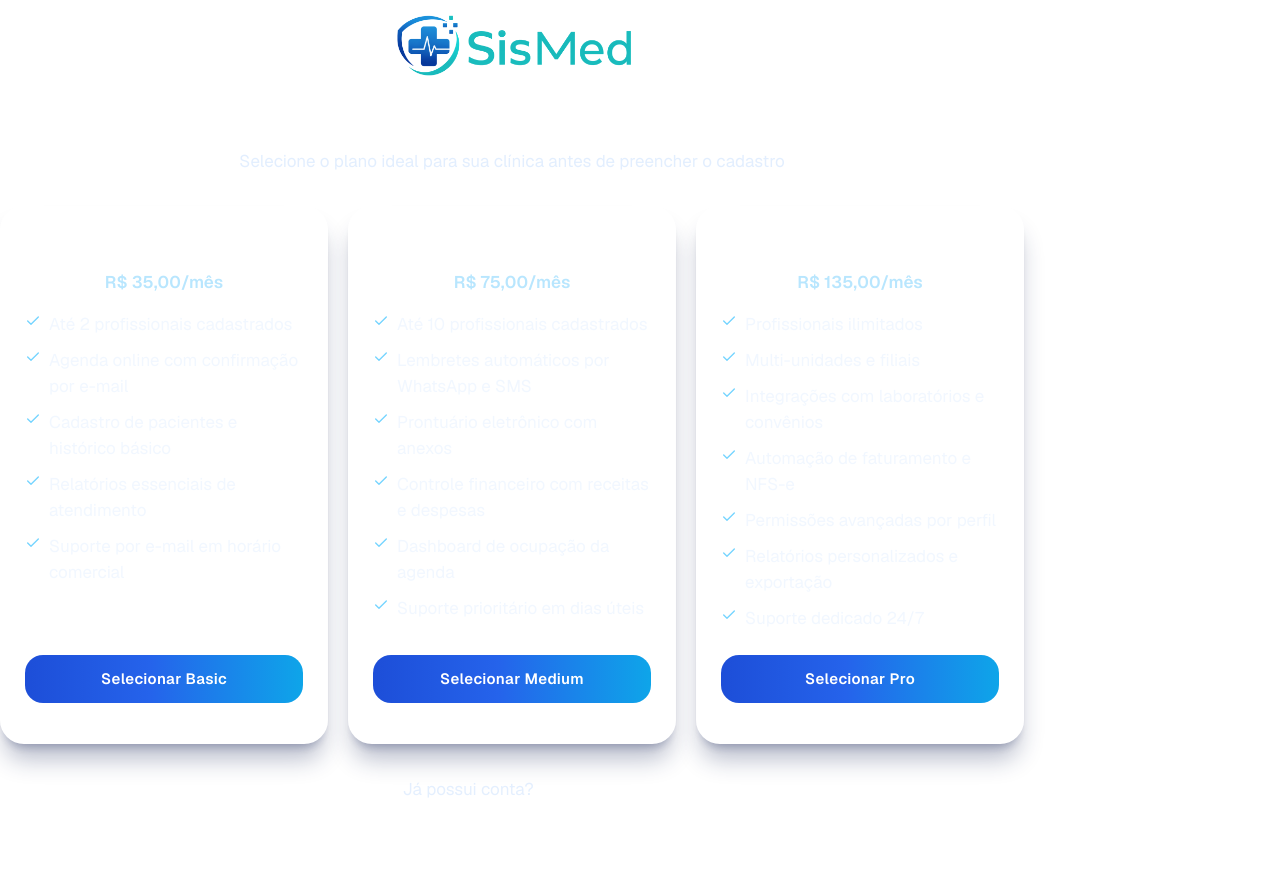
Test case: CompanyRegisterForm › volta para seleção de planos ao clicar em alterar
Click the button "Selecionar Basic".
click(164, 679)  # box [25, 655, 303, 703]
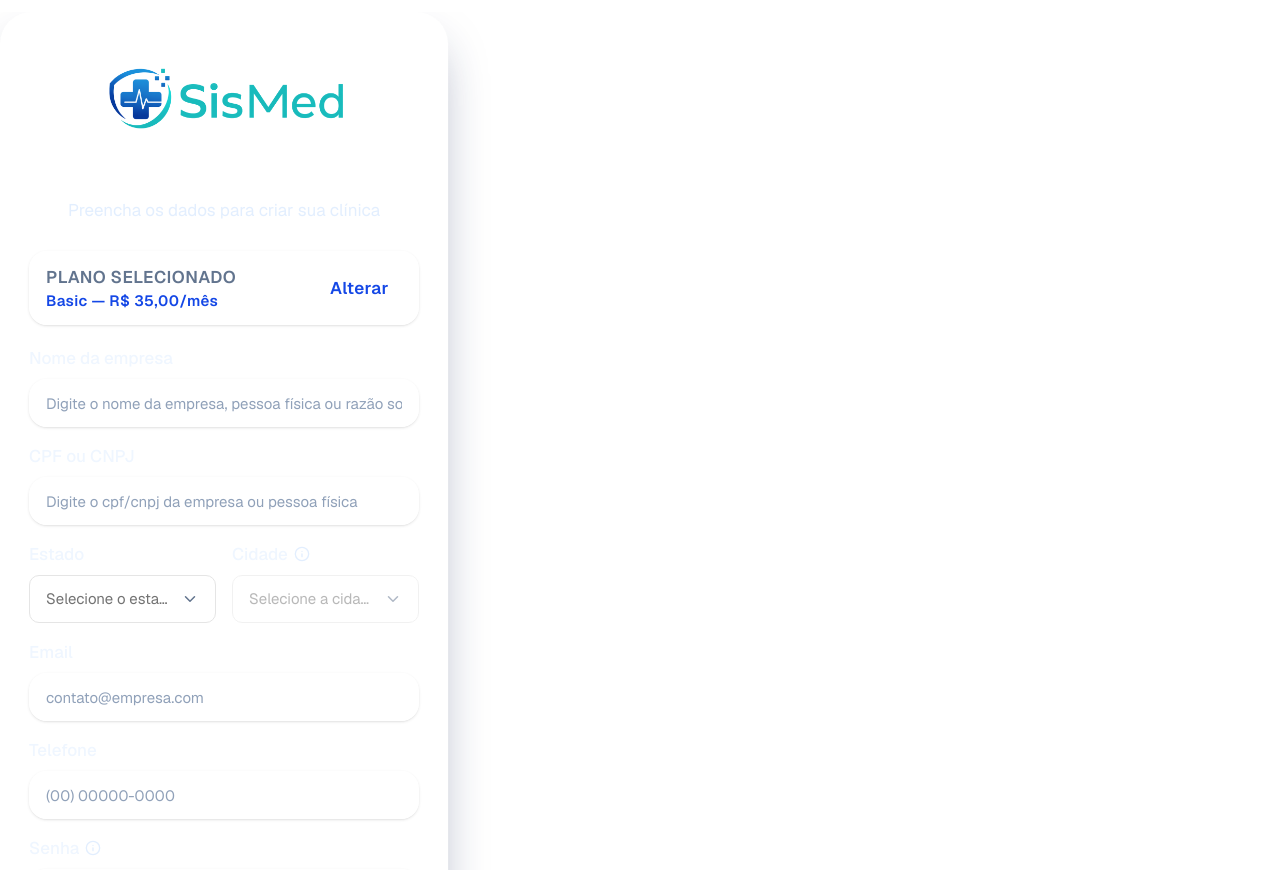
Click the button "Alterar".
click(360, 288)  # box [317, 268, 402, 308]
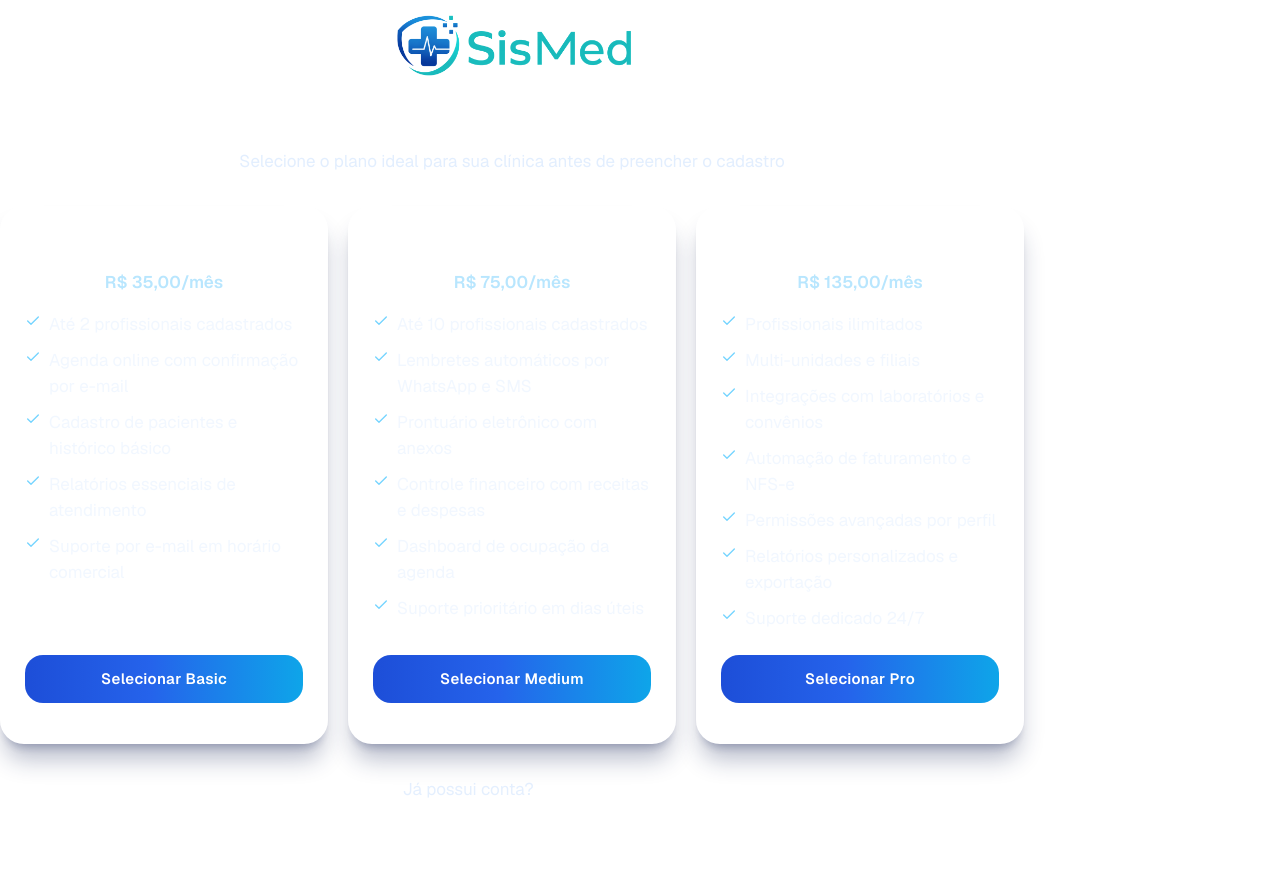
Now the label labelled "Nome da empresa" is gone
